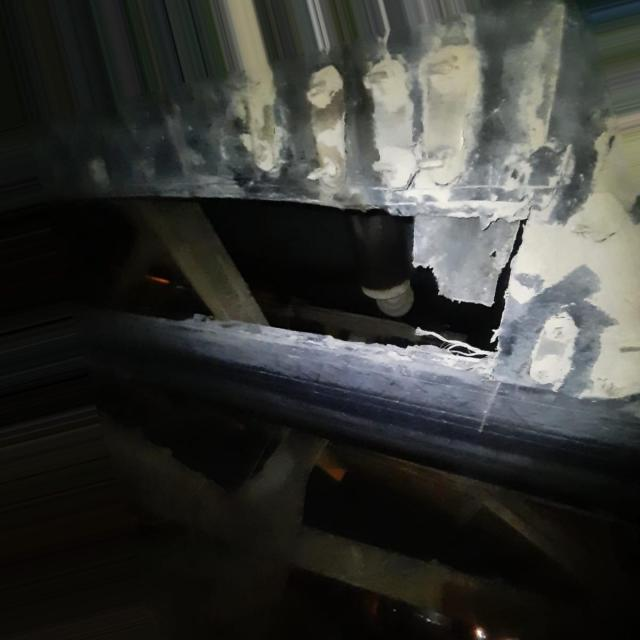Hole: (8, 200, 522, 354)
